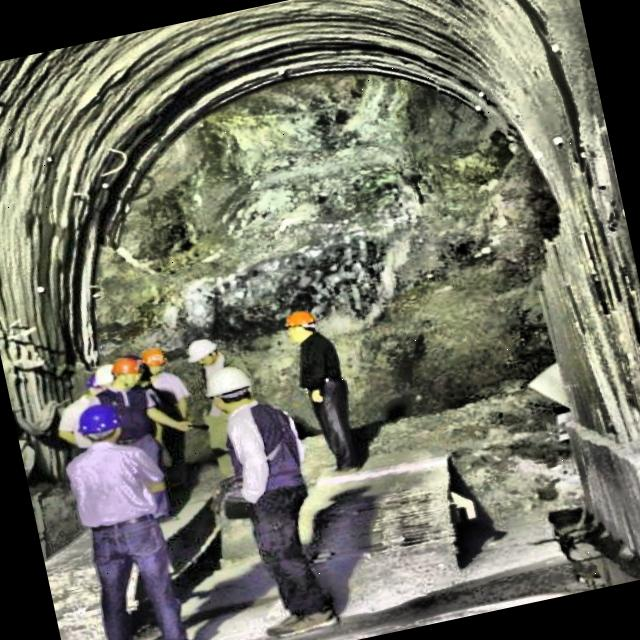helmet: (205, 360, 261, 416), (68, 398, 125, 452), (182, 332, 228, 372), (280, 302, 322, 345), (136, 340, 176, 380), (110, 351, 145, 393)
